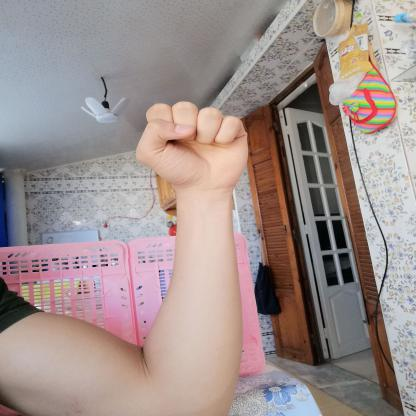SAD: (123, 88, 274, 198)
